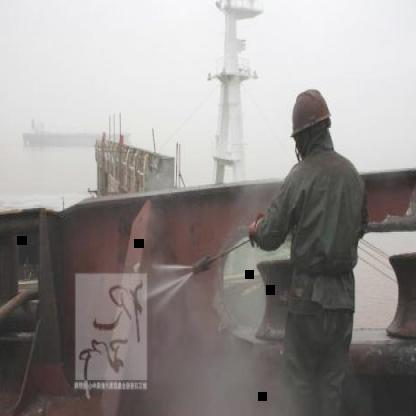helmet: (287, 85, 335, 143)
